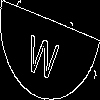W: (25, 25, 61, 82)
